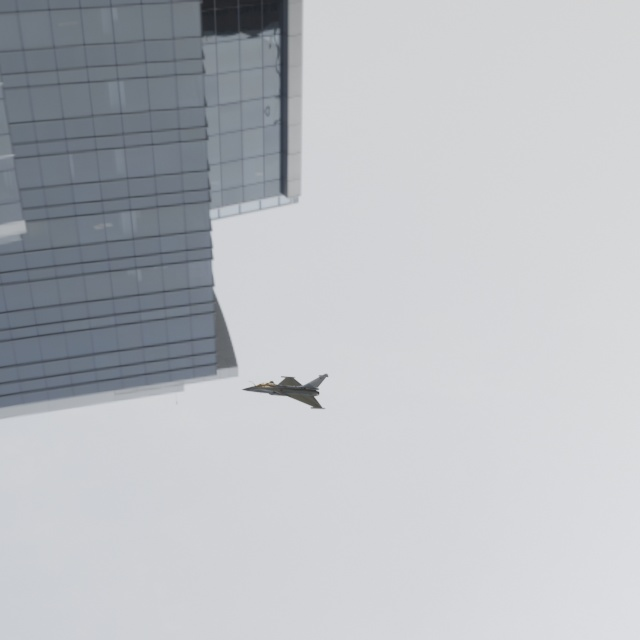dassault_rafale: (226, 353, 346, 412)
